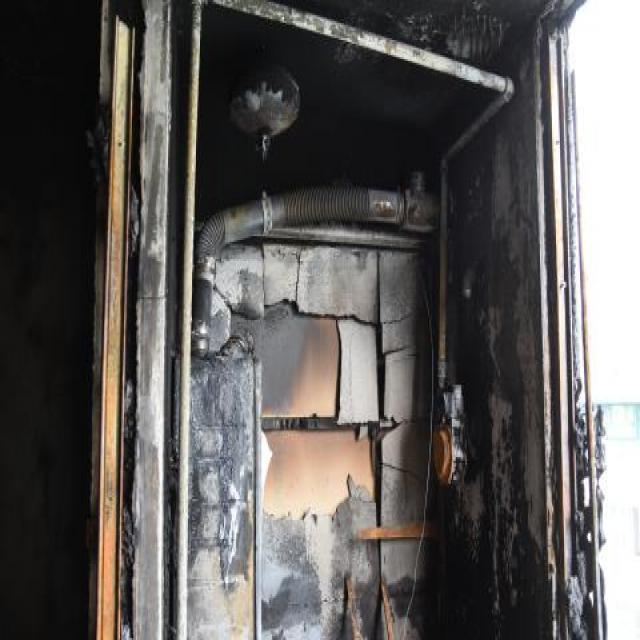Boiler: (168, 320, 296, 640)
